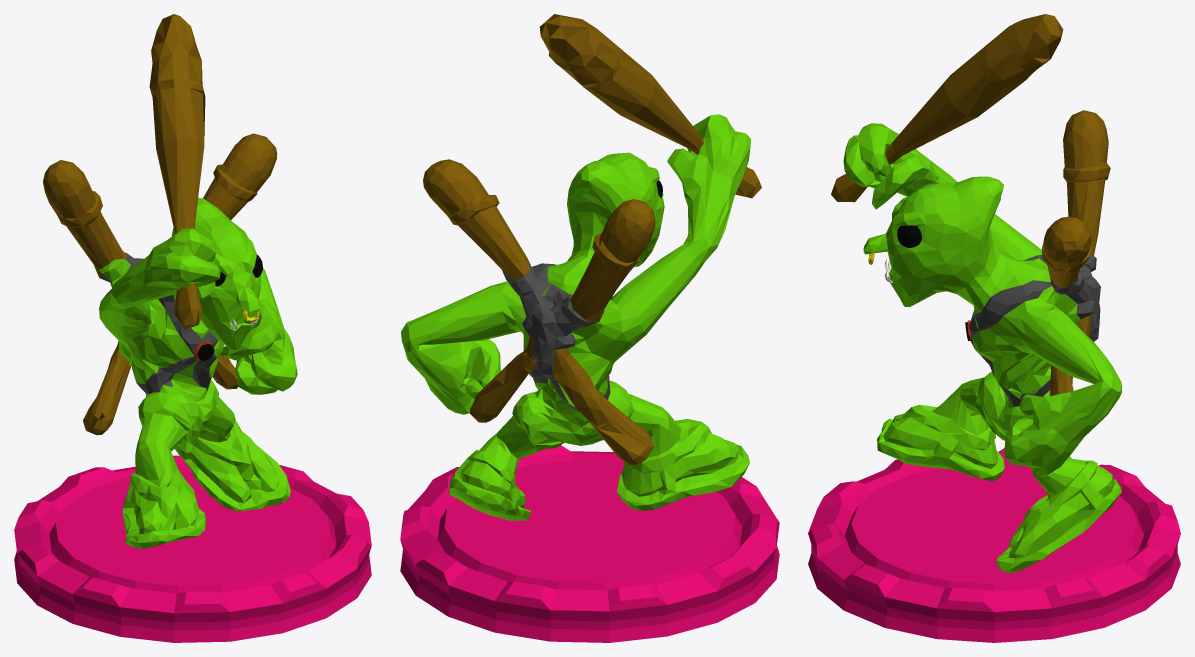
The model's file is GoblinPoseReduced.fbx.
3 views of the same model, side by side, from view 1: azimuth 30°, elevation 25°; view 2: azimuth 150°, elevation 25°; view 3: azimuth 270°, elevation 25° (orthographic). The views are drawn at different scales.
Visible parts, largest first — view 1: polySurface1, polySurface12, polySurface5; view 2: polySurface1, polySurface12, polySurface5; view 3: polySurface1, polySurface12, polySurface5.
Boxes of the visible parts, bbox=[...] form: polySurface1: bbox=[43, 133, 297, 548]; polySurface12: bbox=[14, 455, 371, 642]; polySurface5: bbox=[149, 14, 205, 329]; polySurface1: bbox=[401, 114, 750, 520]; polySurface12: bbox=[400, 445, 779, 642]; polySurface5: bbox=[539, 14, 761, 198]; polySurface1: bbox=[843, 110, 1121, 573]; polySurface12: bbox=[808, 448, 1180, 642]; polySurface5: bbox=[831, 14, 1063, 202].
Bounding box in the file's own units: 2 × 3.27 × 2.
